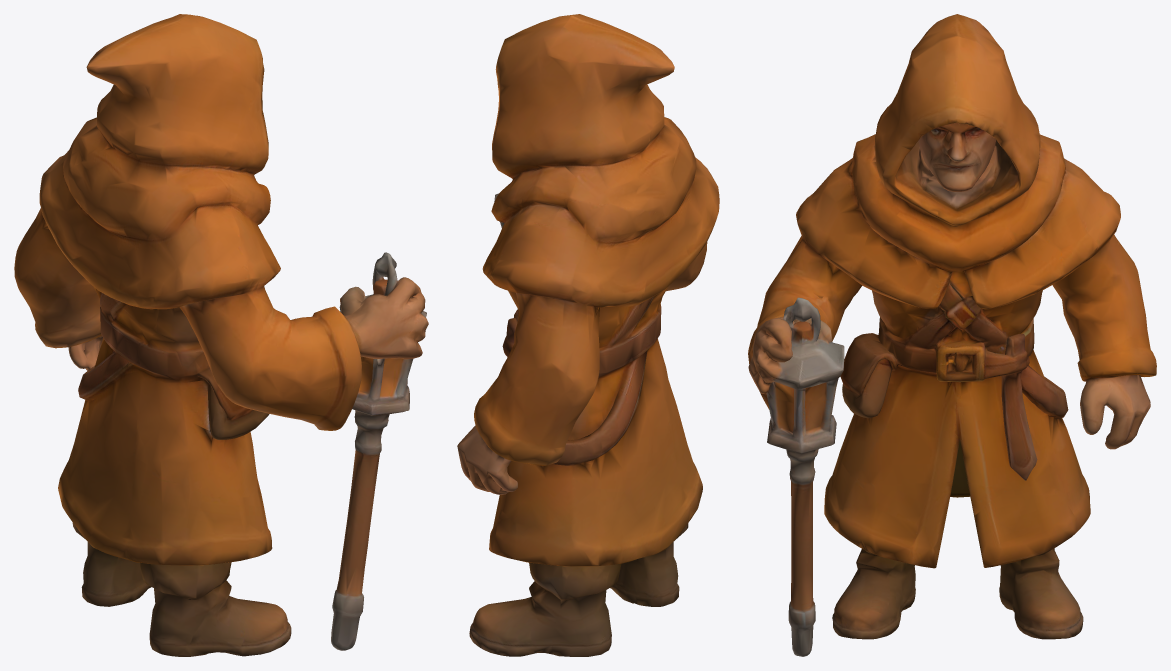
File: warden.glb
3 views of the same model, side by side, from view 1: azimuth 30°, elevation 25°; view 2: azimuth 150°, elevation 25°; view 3: azimuth 270°, elevation 25° (orthographic). The views are drawn at different scales.
Parts seen in each view (by area): view 1: tripo_node_de7dc777-56fc-4a29-9cb6-e06ade7a1523; view 2: tripo_node_de7dc777-56fc-4a29-9cb6-e06ade7a1523; view 3: tripo_node_de7dc777-56fc-4a29-9cb6-e06ade7a1523.
Part boxes in pixels (x1,y1,x2,y2): tripo_node_de7dc777-56fc-4a29-9cb6-e06ade7a1523: (14, 14, 428, 656); tripo_node_de7dc777-56fc-4a29-9cb6-e06ade7a1523: (457, 14, 719, 656); tripo_node_de7dc777-56fc-4a29-9cb6-e06ade7a1523: (748, 14, 1156, 656).
Bounding box in the file's own units: 0.8207 × 1.8 × 1.14.
1 material, 1 textured.
